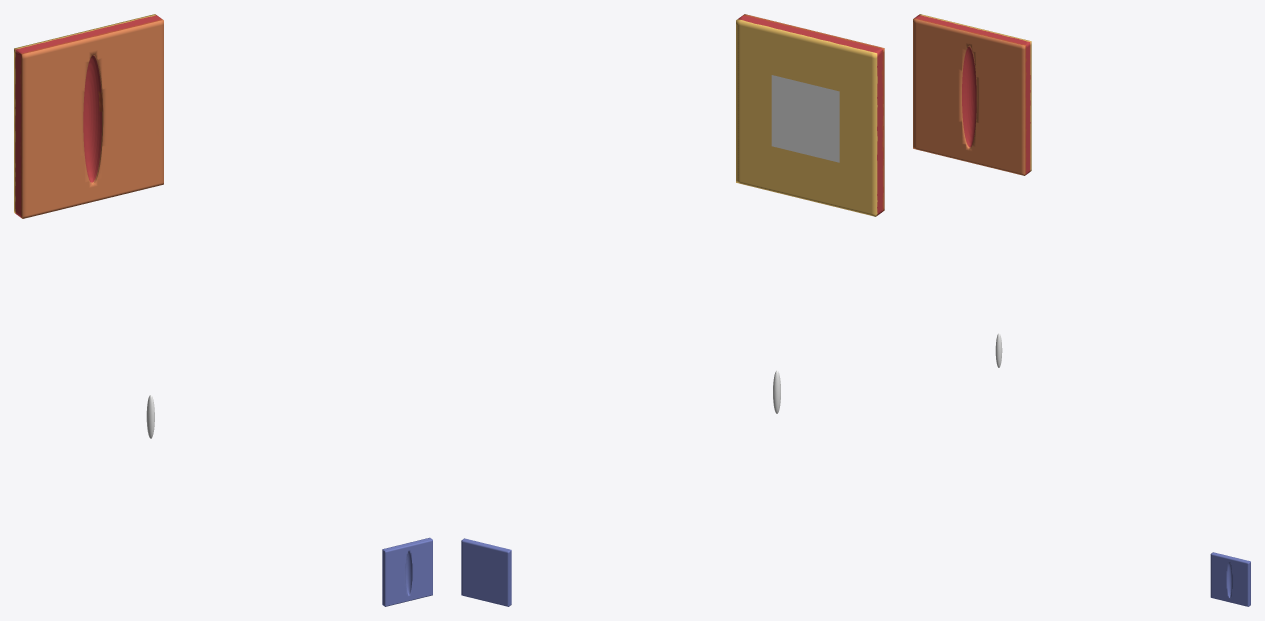
The model's file is Femur.obj.
3 renders of one model, left to right at view 1: azimuth 30°, elevation 25°; view 2: azimuth 150°, elevation 25°; view 3: azimuth 330°, elevation 25°, orthographic. The views are drawn at different scales.
Parts seen in each view (by area): view 1: obj3, obj4, obj1, obj5; view 2: obj5, obj7, obj1, obj4; view 3: obj3, obj4, obj1, obj5.
Boxes of the visible parts, box(x1,y1,x2,y2) form: obj3: box(22, 20, 163, 218); obj4: box(15, 15, 160, 217); obj1: box(382, 537, 432, 606); obj5: box(14, 14, 155, 213); obj5: box(736, 19, 877, 216); obj7: box(771, 75, 839, 162); obj1: box(461, 538, 511, 606); obj4: box(738, 15, 883, 215); obj3: box(913, 18, 1025, 175); obj4: box(915, 15, 1030, 174); obj1: box(1210, 552, 1250, 606); obj5: box(919, 14, 1031, 171).
Bounding box in the file's own units: 12.12 × 17.97 × 1.11.
